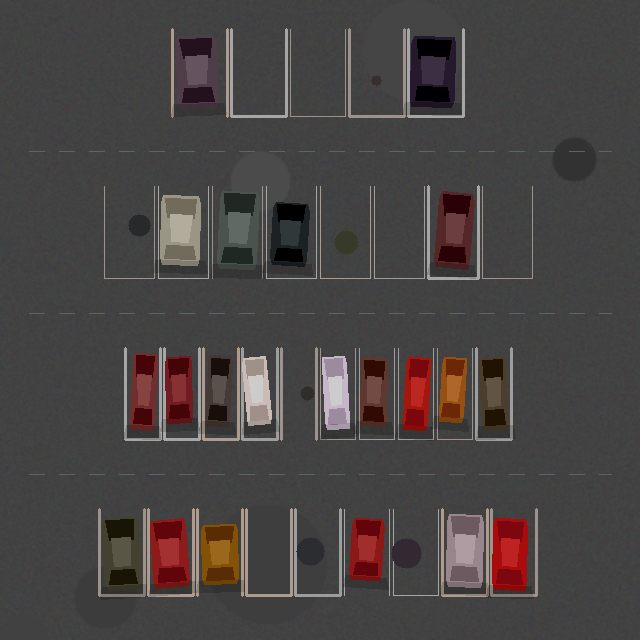space-empty: (231, 29, 286, 116), (290, 29, 345, 116), (349, 29, 404, 116), (104, 186, 154, 278), (320, 186, 370, 278), (374, 186, 424, 278), (482, 186, 532, 278), (246, 509, 291, 595), (295, 509, 340, 595), (393, 509, 438, 595), (281, 348, 316, 439)
space-occupied: (172, 29, 227, 116), (408, 29, 463, 116), (158, 186, 208, 278), (212, 186, 262, 278), (266, 186, 316, 278), (428, 186, 478, 278), (99, 509, 144, 595), (148, 509, 193, 595), (197, 509, 242, 595), (344, 509, 389, 595), (442, 509, 487, 595), (491, 509, 536, 595), (125, 348, 160, 439), (164, 348, 199, 439), (203, 348, 238, 439), (242, 348, 277, 439), (320, 348, 355, 439), (359, 348, 394, 439), (398, 348, 433, 439), (437, 348, 472, 439), (476, 348, 511, 439)
